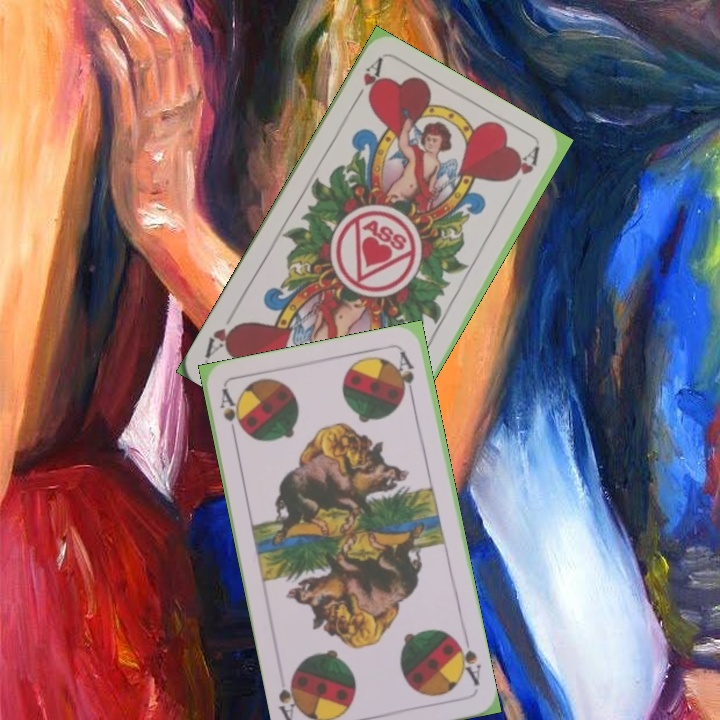HA: (348, 55, 385, 110)
SA: (451, 632, 484, 689), (216, 385, 246, 444)
